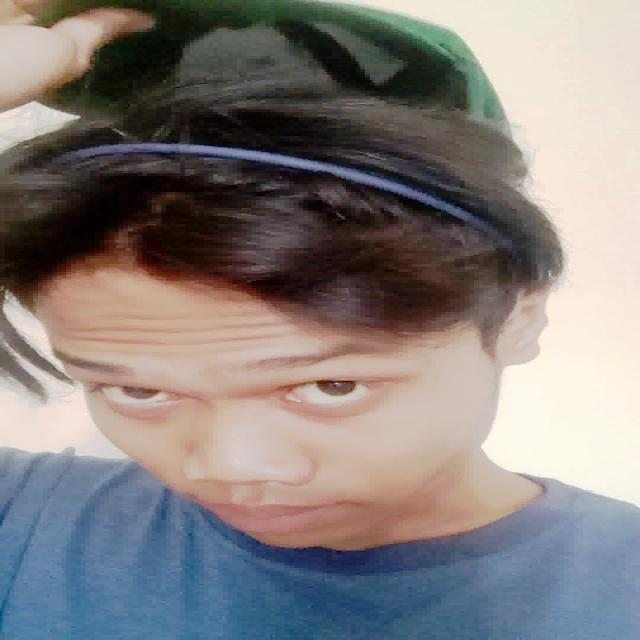TOPI: (26, 3, 535, 137)
